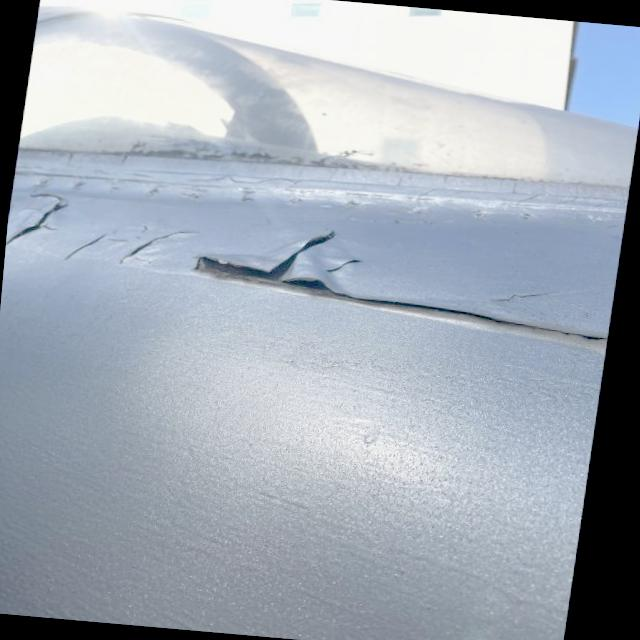crack: (62, 212, 201, 283), (316, 254, 377, 278), (488, 282, 536, 304)
